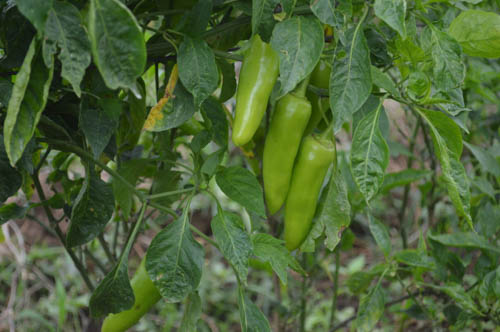ChiliPepper: (260, 98, 309, 225), (282, 138, 331, 254), (234, 39, 276, 152), (99, 260, 165, 331), (305, 63, 334, 125)
